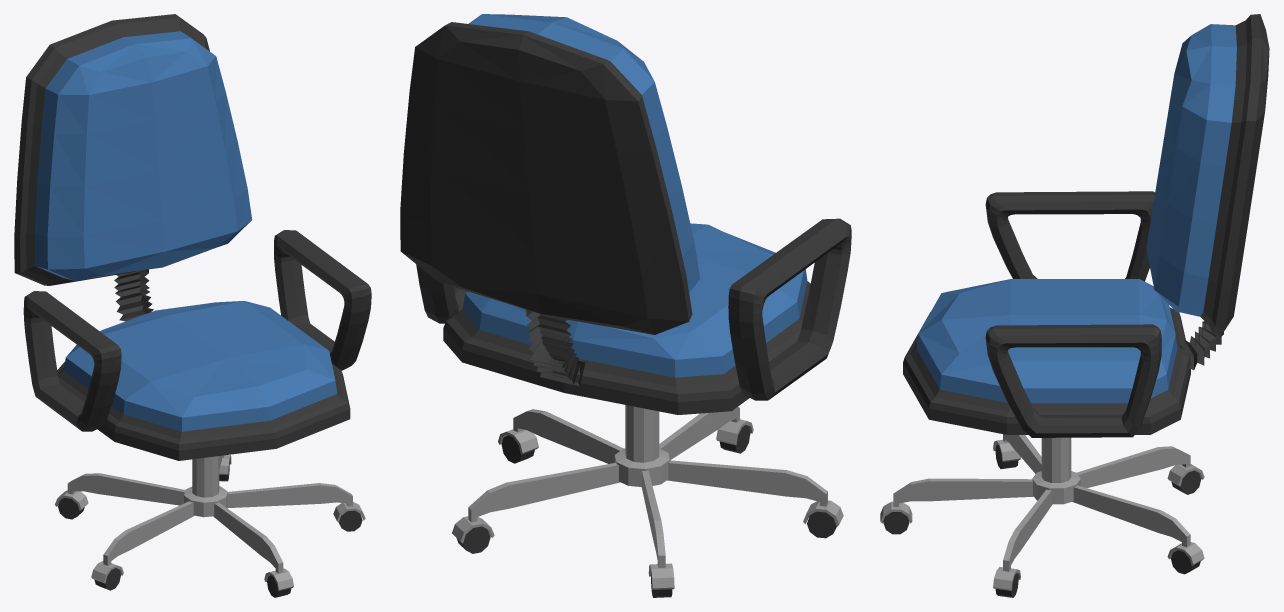
The model's file is office_chair.fbx.
3 renders of one model, left to right at view 1: azimuth 30°, elevation 25°; view 2: azimuth 150°, elevation 25°; view 3: azimuth 270°, elevation 25°, orthographic. The views are drawn at different scales.
Parts seen in each view (by area): view 1: office_chair_LOD0; view 2: office_chair_LOD0; view 3: office_chair_LOD0.
Part boxes in pixels (x1,y1,x2,y2): office_chair_LOD0: (14, 14, 371, 597); office_chair_LOD0: (400, 14, 851, 597); office_chair_LOD0: (880, 14, 1269, 597).
Size of what is drawn, in the model's own units: 0.672 by 1.05 by 0.7517.
